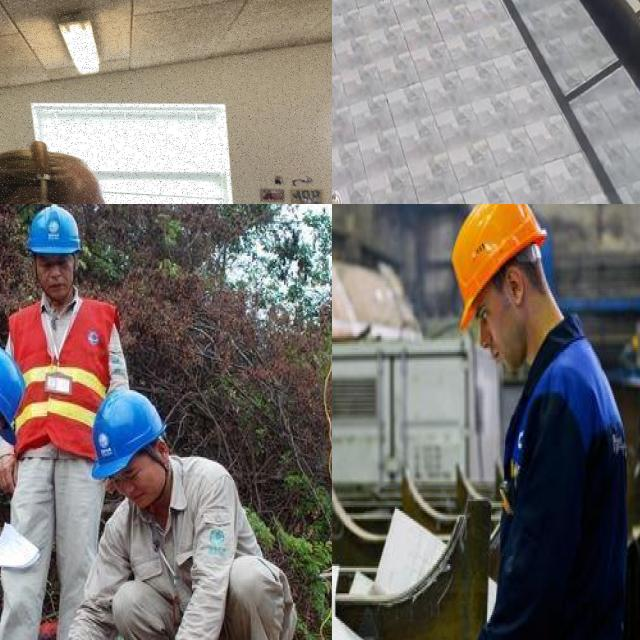Ear-protection: (0, 129, 122, 204)
No_Ear-Protection: (503, 274, 533, 319), (155, 436, 171, 464)
No_Glasses: (36, 257, 74, 272), (476, 291, 493, 322), (124, 461, 143, 486)
face_nomask: (102, 453, 165, 515), (37, 253, 78, 306), (480, 327, 527, 372)
hand_noglove: (0, 452, 19, 495)
head_helmet: (452, 204, 547, 329), (97, 393, 159, 453), (28, 208, 79, 252), (0, 338, 21, 408)
person: (97, 393, 290, 640), (10, 205, 92, 640)
vest: (23, 312, 97, 443)
